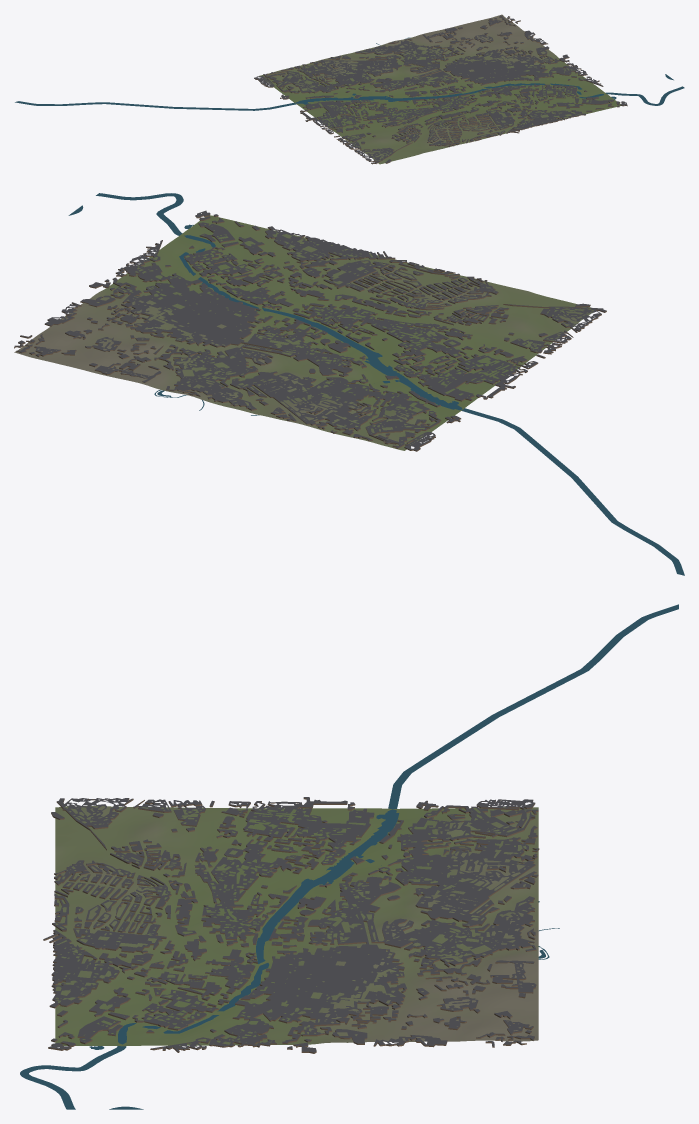
The model's file is overview.glb.
3 renders of one model, top to bottom at view 1: azimuth 30°, elevation 25°; view 2: azimuth 150°, elevation 25°; view 3: azimuth 270°, elevation 25°, orthographic. The views are drawn at different scales.
Parts seen in each view (by area): view 1: buildings_overview, terrain_overview, water_overview; view 2: buildings_overview, terrain_overview, water_overview; view 3: buildings_overview, terrain_overview, water_overview.
Boxes of the visible parts, x1,y1,x2,y2 form: buildings_overview: (254, 15, 627, 164); terrain_overview: (259, 14, 620, 164); water_overview: (15, 37, 684, 110); buildings_overview: (14, 210, 606, 451); terrain_overview: (14, 215, 593, 450); water_overview: (68, 193, 684, 575); buildings_overview: (43, 797, 539, 1053); terrain_overview: (55, 806, 538, 1046); water_overview: (20, 604, 678, 1109).
Size of the model in its own units: 12772 by 88.51 by 7040.
